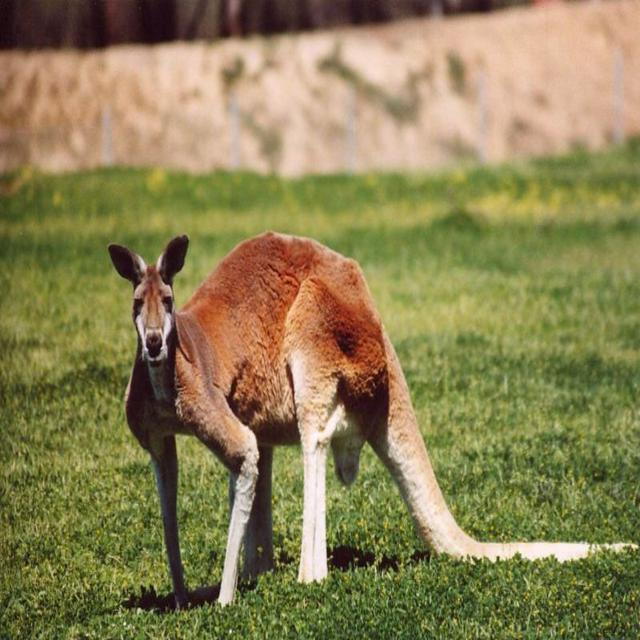kangaroo: (101, 215, 386, 580)
